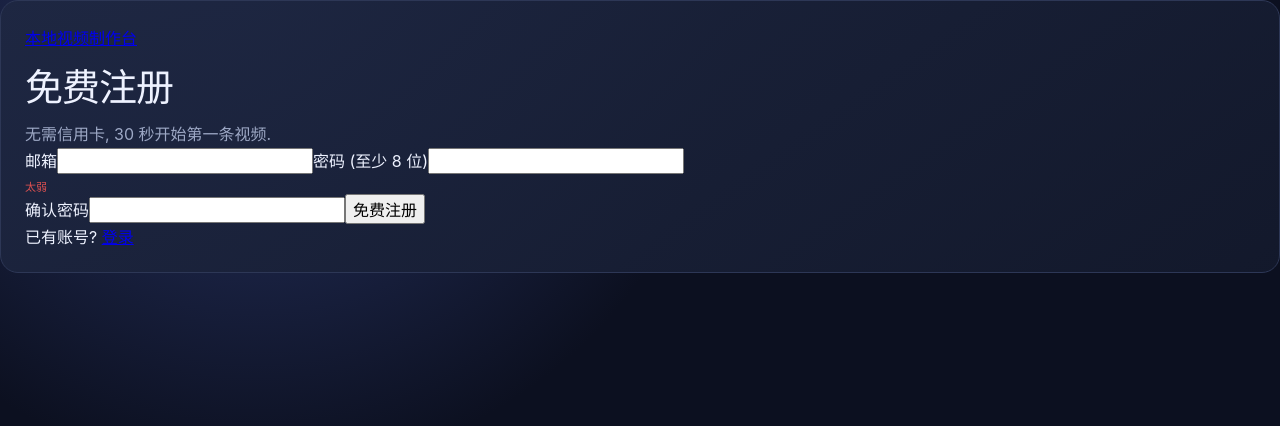
Test: SignupPage R9 (rev38) › password < 8 chars -> 密码至少 8 位
Type "u@e.c" into the field labelled "邮箱" at (185, 161), box [57,148,313,174]
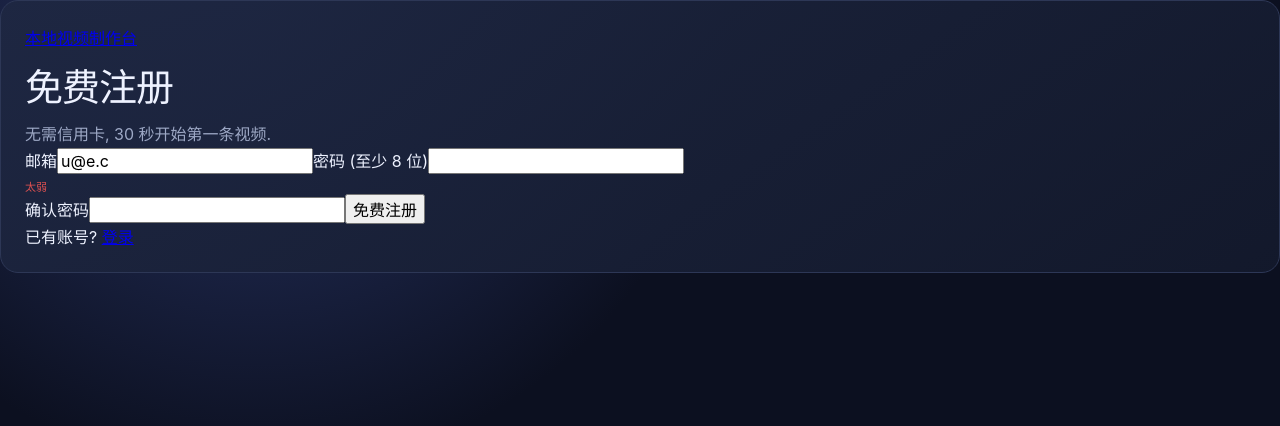
Type "short" into the password field labelled "密码 (至少 8 位)" at (556, 161), box [428,148,684,174]
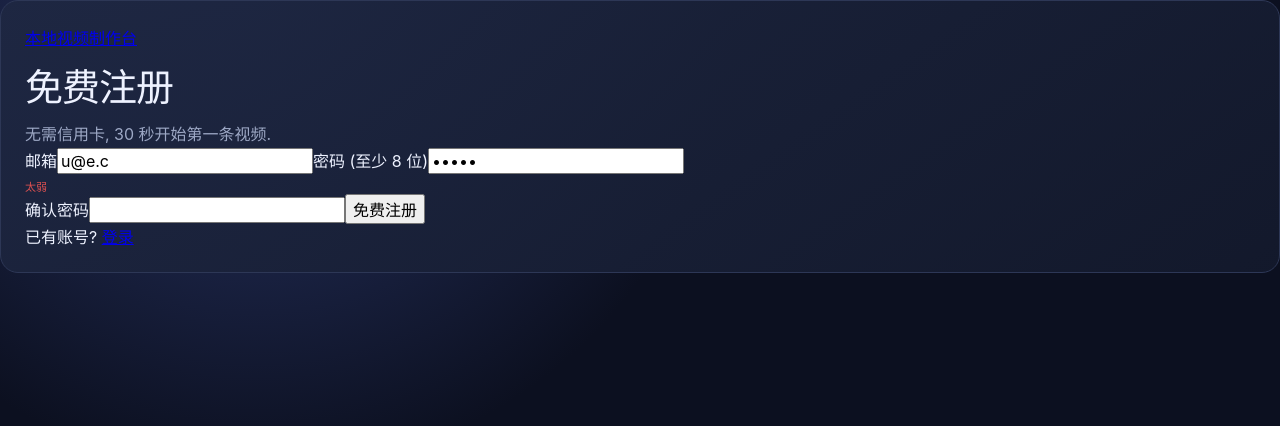
Type "short" into the password field labelled "确认密码" at (217, 210), box [89,197,345,223]
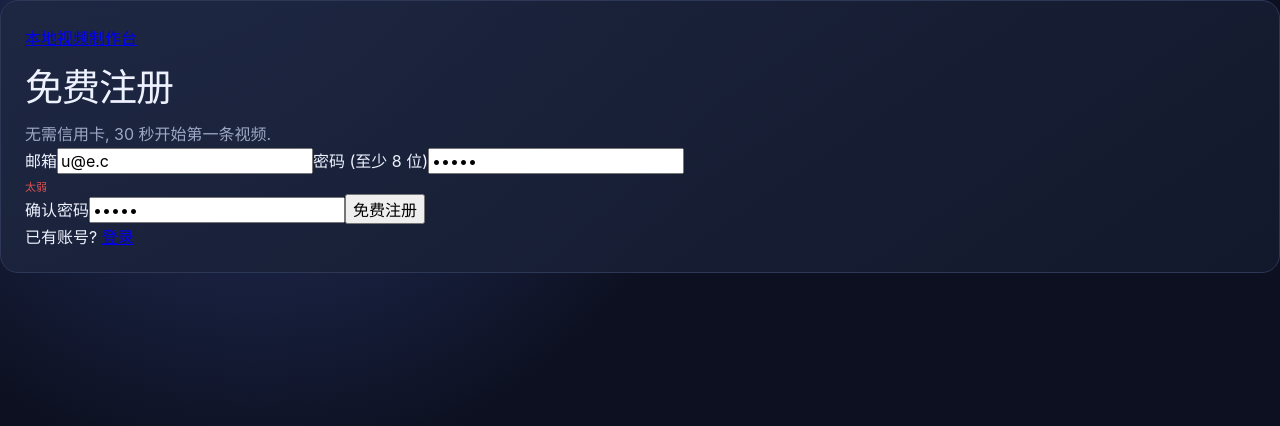
Submit the form, box [25,148,684,224]
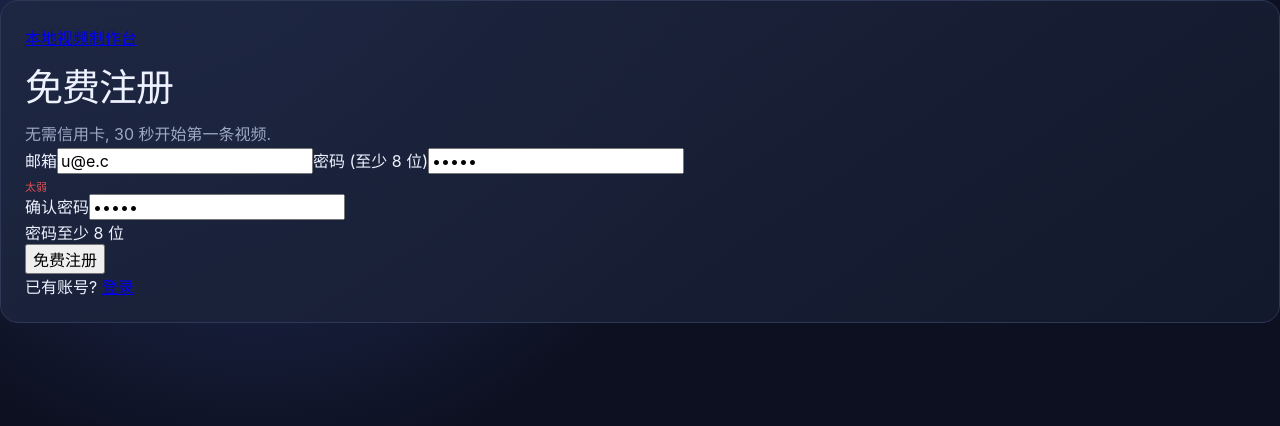
Now the text with class "err" reads "密码至少 8 位", box [25,223,124,243]
